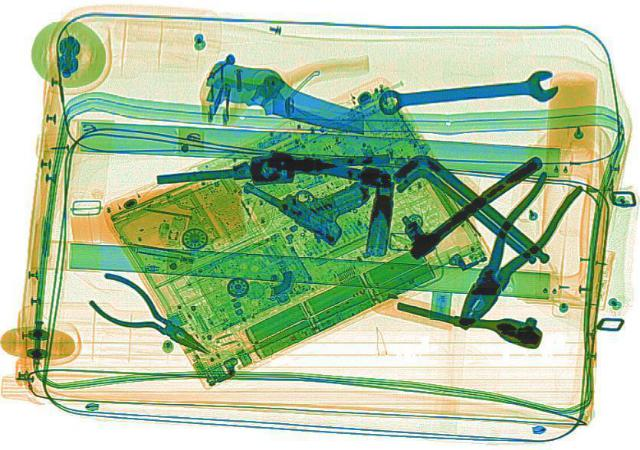Gun: (230, 144, 396, 246)
Pliers: (434, 167, 586, 333), (68, 266, 226, 367)
Wrench: (374, 67, 562, 118)
